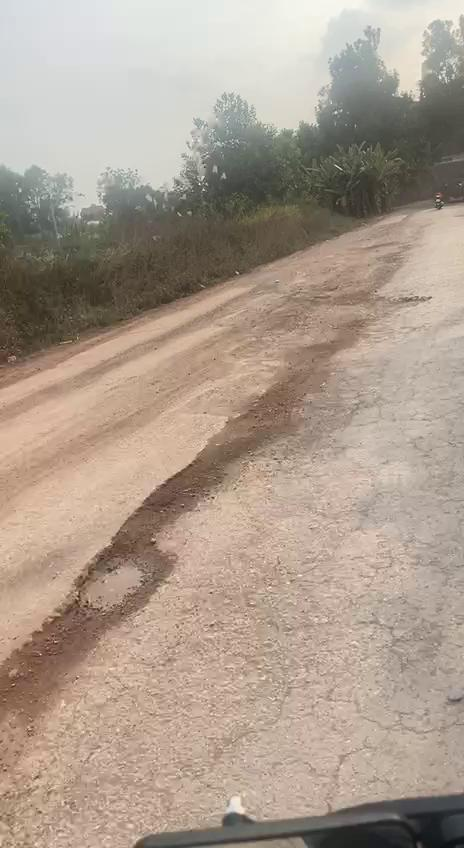pothole: (119, 390, 302, 533), (0, 612, 110, 744), (65, 540, 181, 626)
